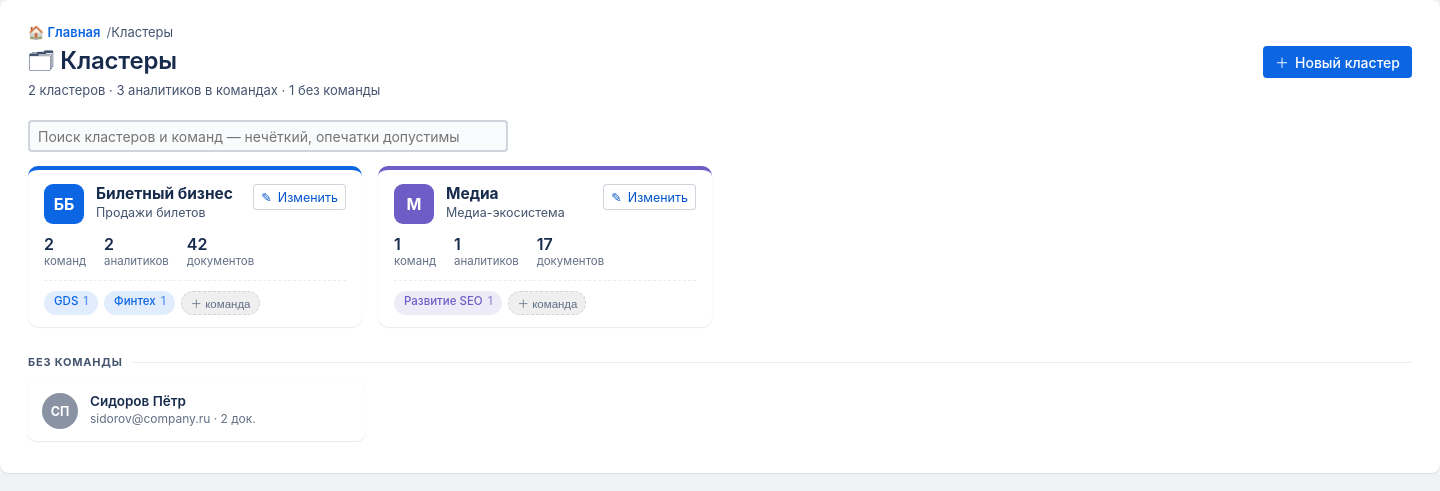
ClustersPage › filters clusters with fuzzy search as you type
The image size is (1440, 491).
Note: опечатка в «билетный» — нечёткий поиск всё равно находит
In the field labelled "Поиск кластеров": (268, 136) [28,120,508,152], type "билетнй бизнес"
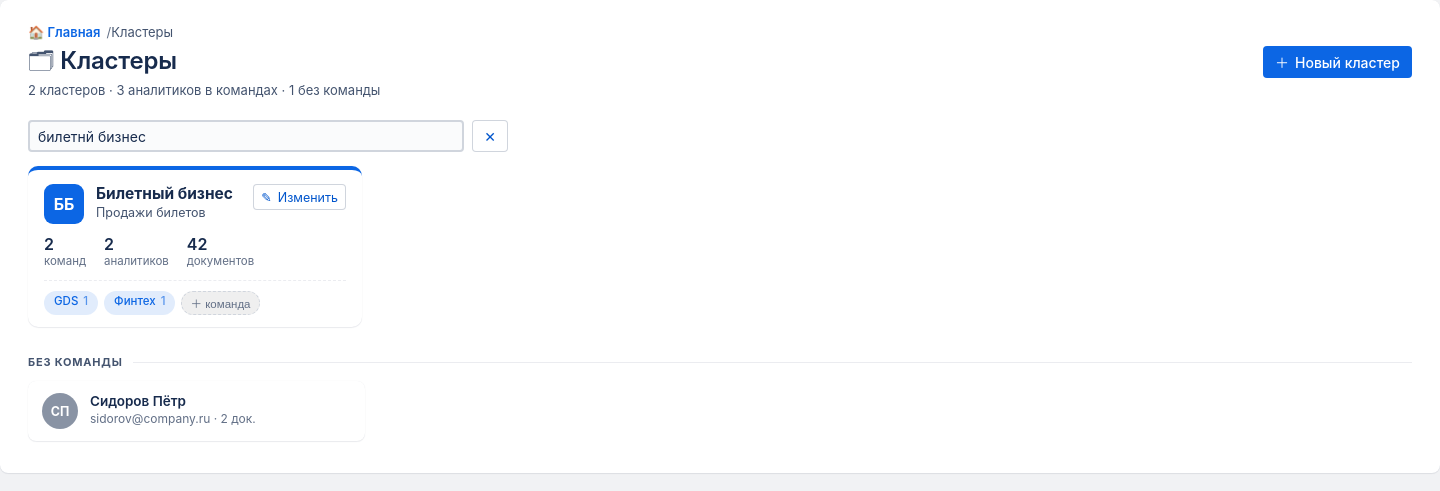
Expected: the link named "Кластер Билетный бизнес" is shown, [28,166,362,327]
Note: ищем по названию команды — находим кластер, в котором она состоит
Replace the text in the field named "Поиск кластеров" with "SEO": (246, 136) [28,120,464,152]
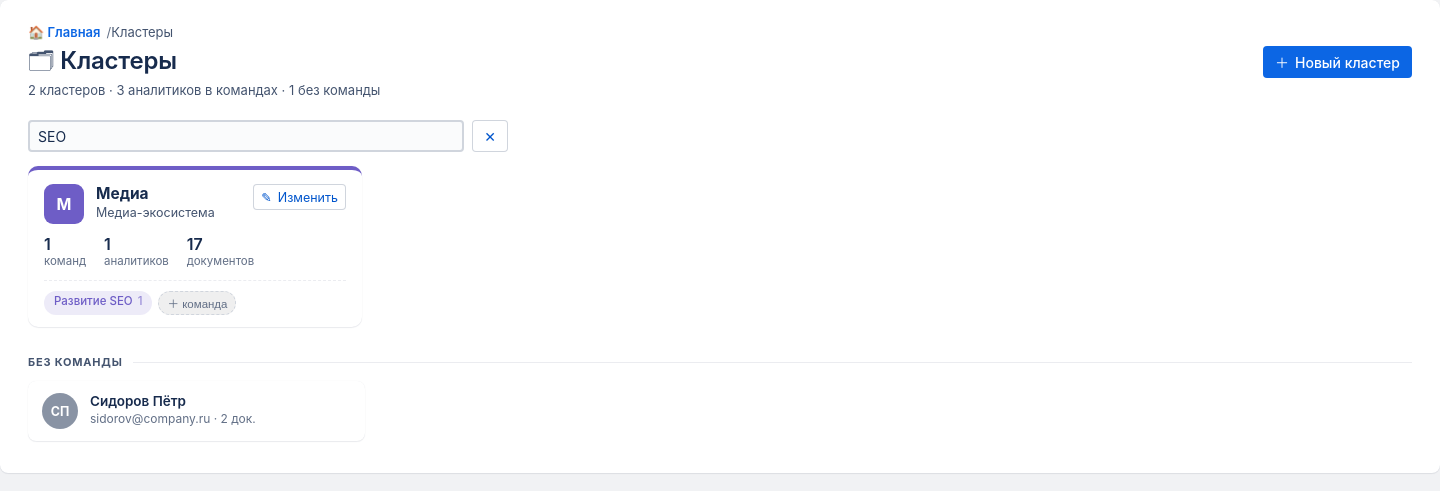
Expected: the link named "Кластер Медиа" is shown, [28,166,362,327]
Note: очистка возвращает всё
Click the button named "Очистить поиск": (490, 136) [472,120,508,152]
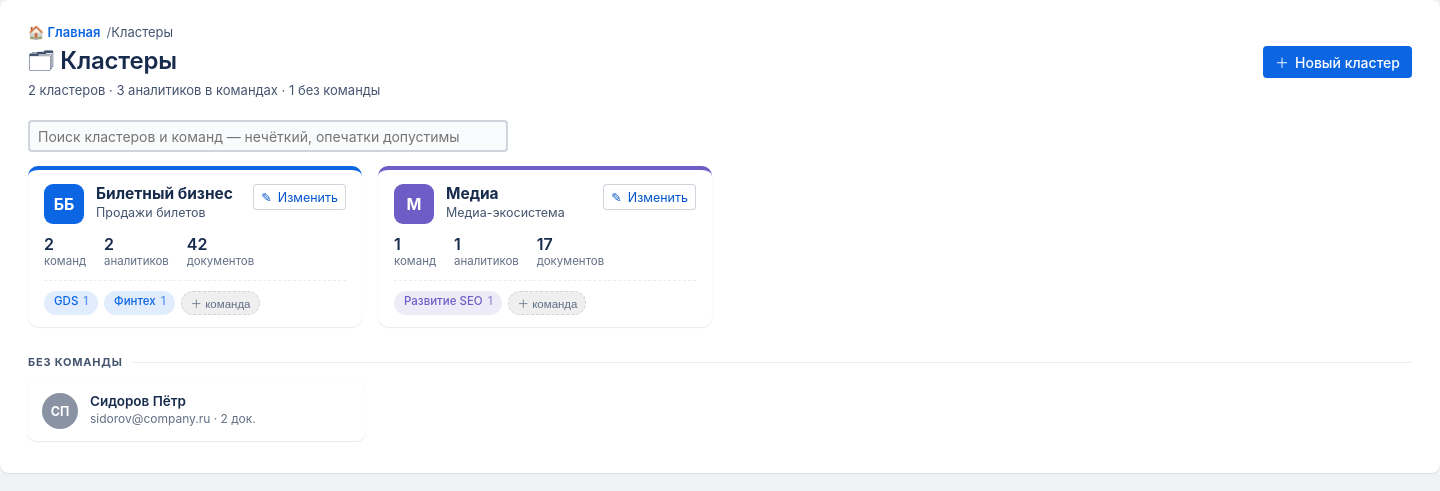
Expected: the link named "Кластер Медиа" is shown, [378,166,712,327]
Expected: the link named "Кластер Билетный бизнес" is shown, [28,166,362,327]
